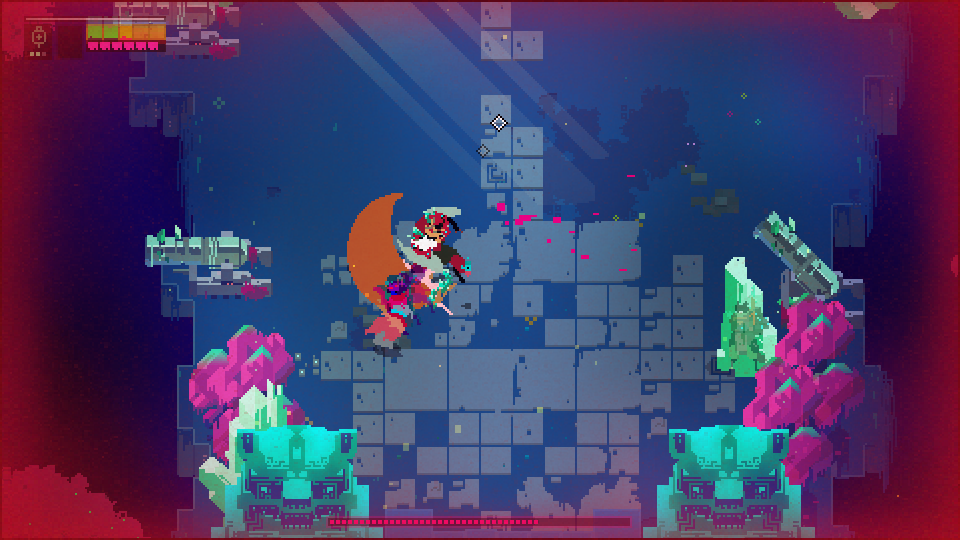hanged_man: (379, 190, 479, 323)
player: (358, 300, 411, 364)
